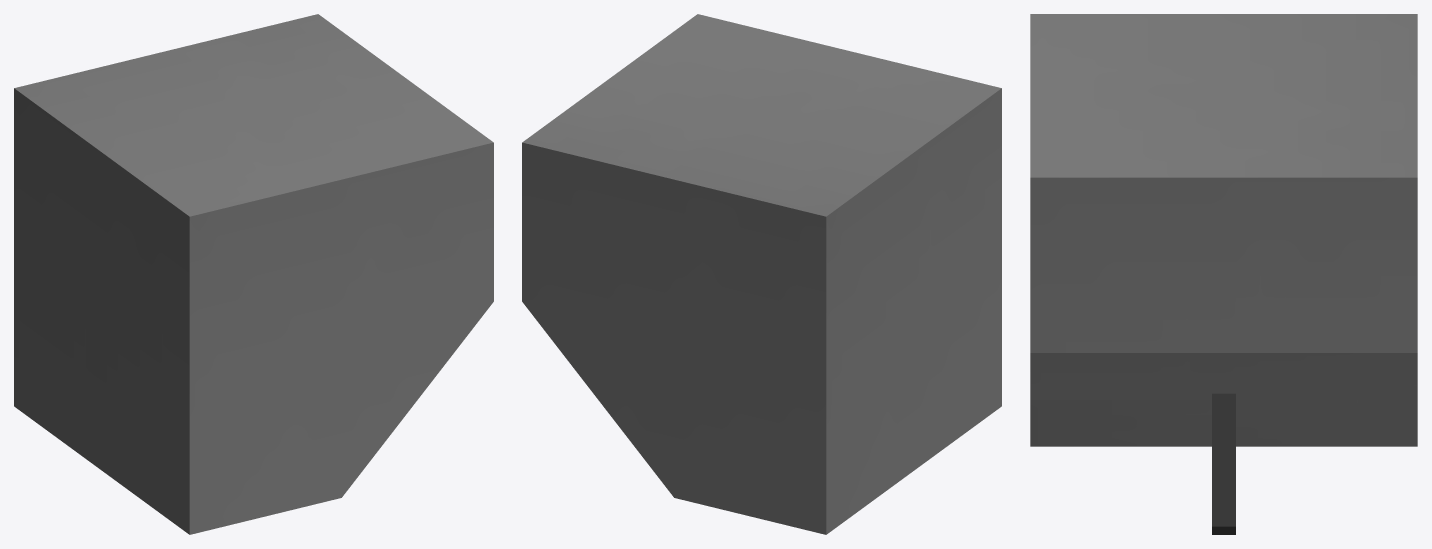
File: dc_metro_roof_g3l.obj
3 renders of one model, left to right at view 1: azimuth 30°, elevation 25°; view 2: azimuth 150°, elevation 25°; view 3: azimuth 270°, elevation 25°, orthographic. The views are drawn at different scales.
Parts seen in each view (by area): view 1: part3l; view 2: part3l; view 3: part3l.
Part boxes in pixels (x1=…): part3l: x1=14, y1=14, x2=493, y2=534; part3l: x1=522, y1=14, x2=1001, y2=534; part3l: x1=1030, y1=14, x2=1417, y2=534.
Size of the model in its own units: 1.04 by 1.02 by 1.
2 materials, 2 textured.
